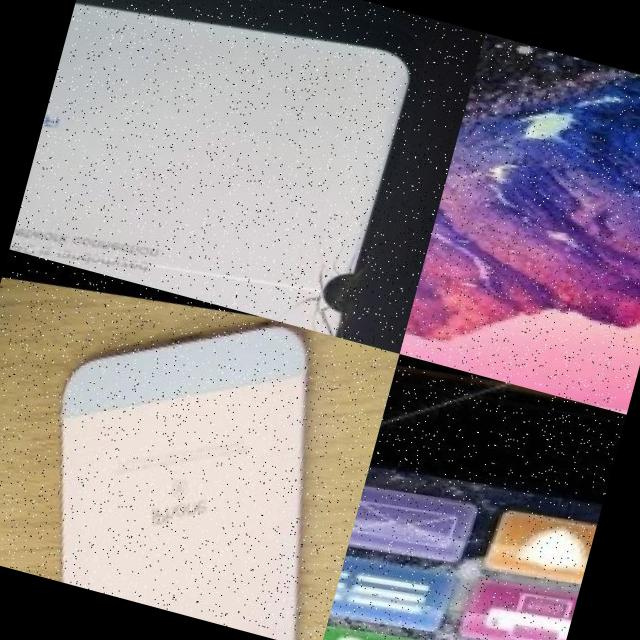dead pixel: (302, 248, 384, 322)
screen crack: (288, 222, 363, 336)
